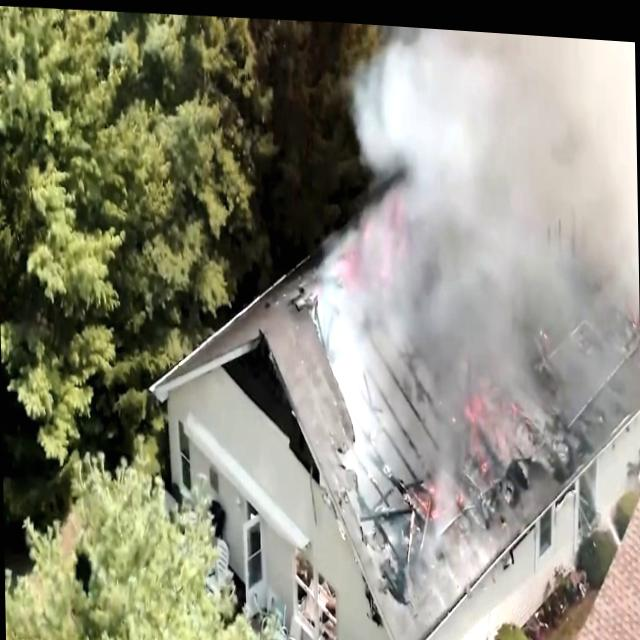smoke: (428, 22, 637, 204)
